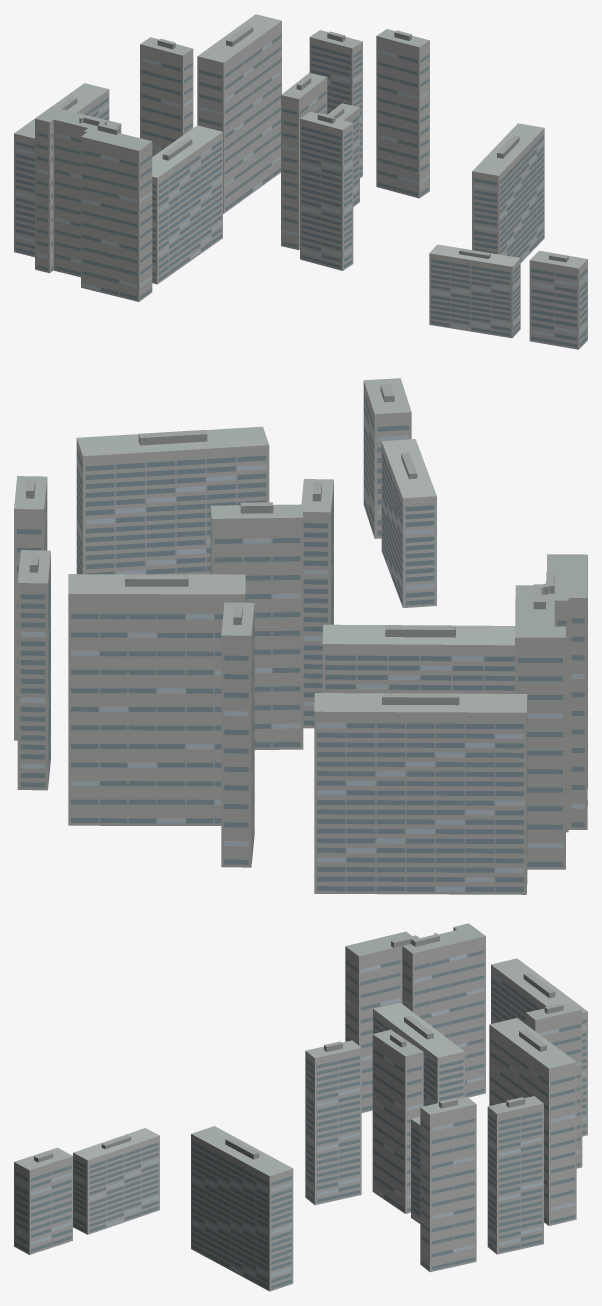
File: apt-a15205405.glb
The picture shows the model from 3 angles, top to bottom: view 1: azimuth 30°, elevation 25°; view 2: azimuth 150°, elevation 25°; view 3: azimuth 270°, elevation 25°; orthographic projection. The views are drawn at different scales.
Parts seen in each view (by area): view 1: apt-a15205405; view 2: apt-a15205405; view 3: apt-a15205405.
Part boxes in pixels (x1,y1,x2,y2): apt-a15205405: [14, 14, 587, 349]; apt-a15205405: [14, 378, 587, 894]; apt-a15205405: [14, 923, 587, 1291].
Bounding box in the file's own units: 214 × 77 × 246.
